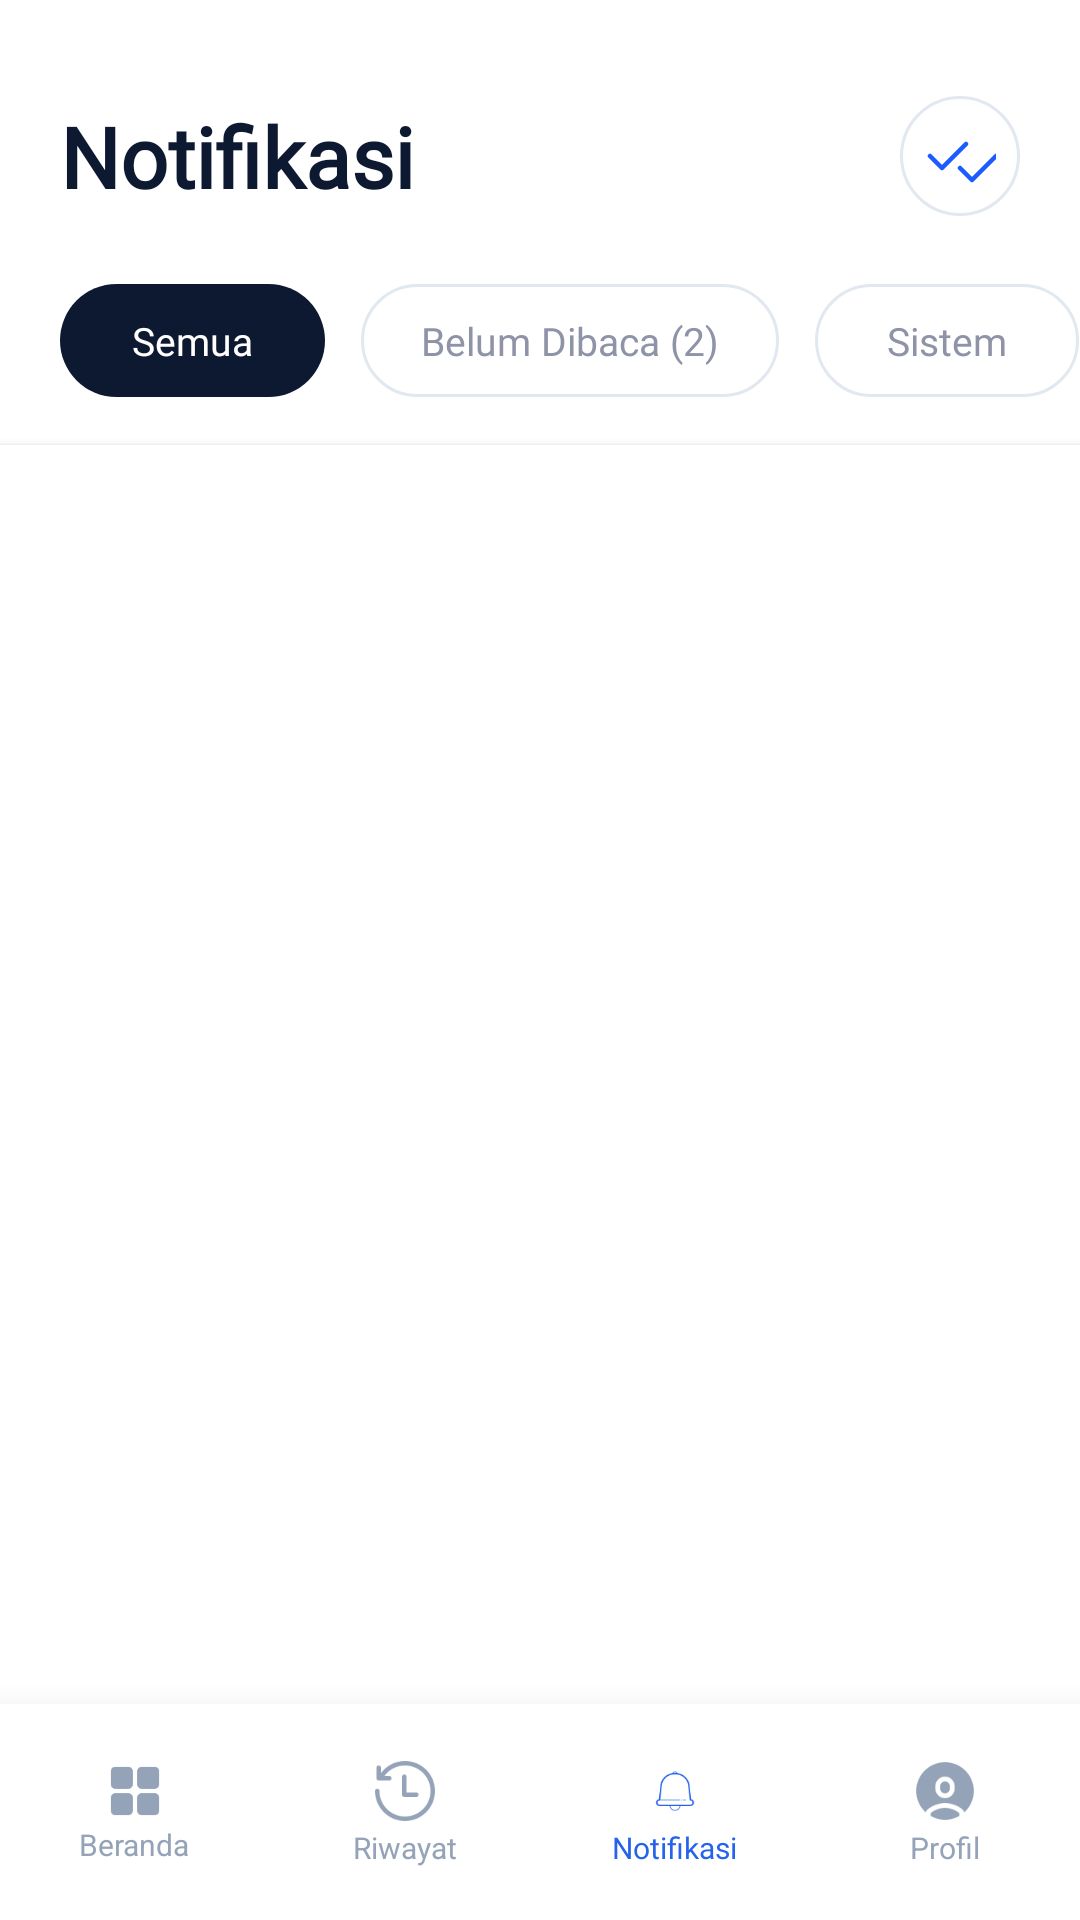

Where icons sit on this 1080 x 1920 app screen, as (x1, y1, x2, y2):
check double: (900, 96, 1020, 216)
